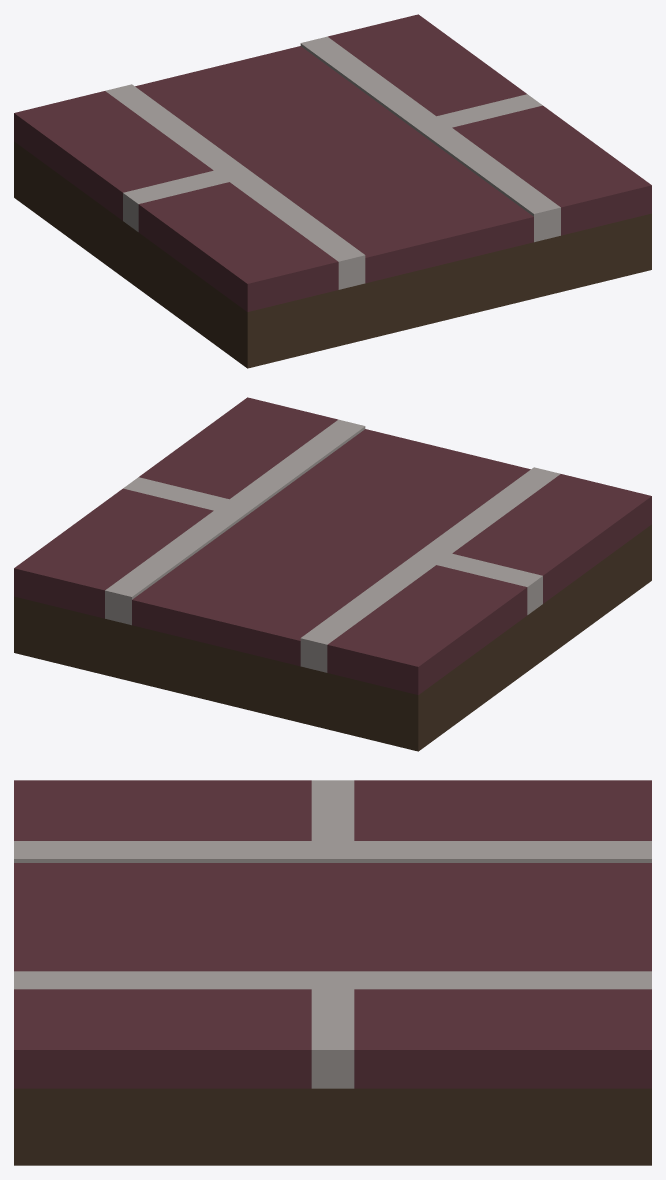
File: tile-mainroad-straight-crosswalk.fbx
3 renders of one model, top to bottom at view 1: azimuth 30°, elevation 25°; view 2: azimuth 150°, elevation 25°; view 3: azimuth 270°, elevation 25°, orthographic. The views are drawn at different scales.
Visible parts, largest first — view 1: tile-mainroad-straight-crosswalk; view 2: tile-mainroad-straight-crosswalk; view 3: tile-mainroad-straight-crosswalk.
Part boxes in pixels (x1,y1,x2,y2): tile-mainroad-straight-crosswalk: [14, 14, 651, 368]; tile-mainroad-straight-crosswalk: [14, 397, 651, 751]; tile-mainroad-straight-crosswalk: [14, 780, 651, 1165].
Bounding box in the file's own units: 30 × 6 × 30.
